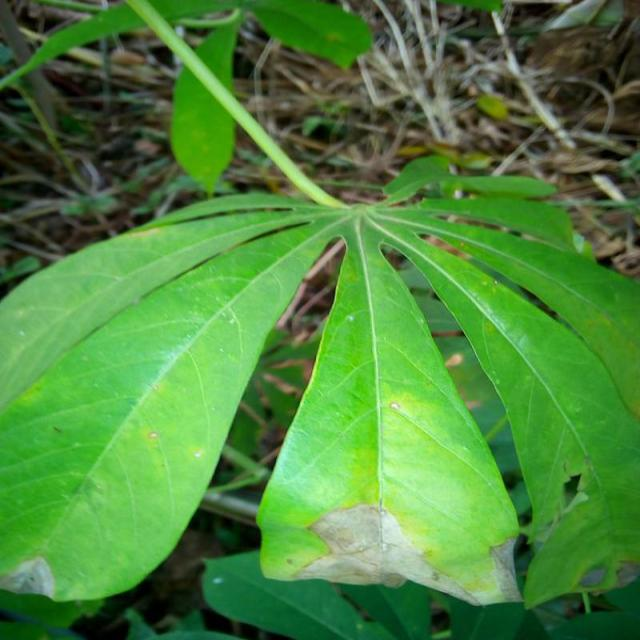cassava leaf: (0, 190, 345, 603), (255, 213, 523, 607)
